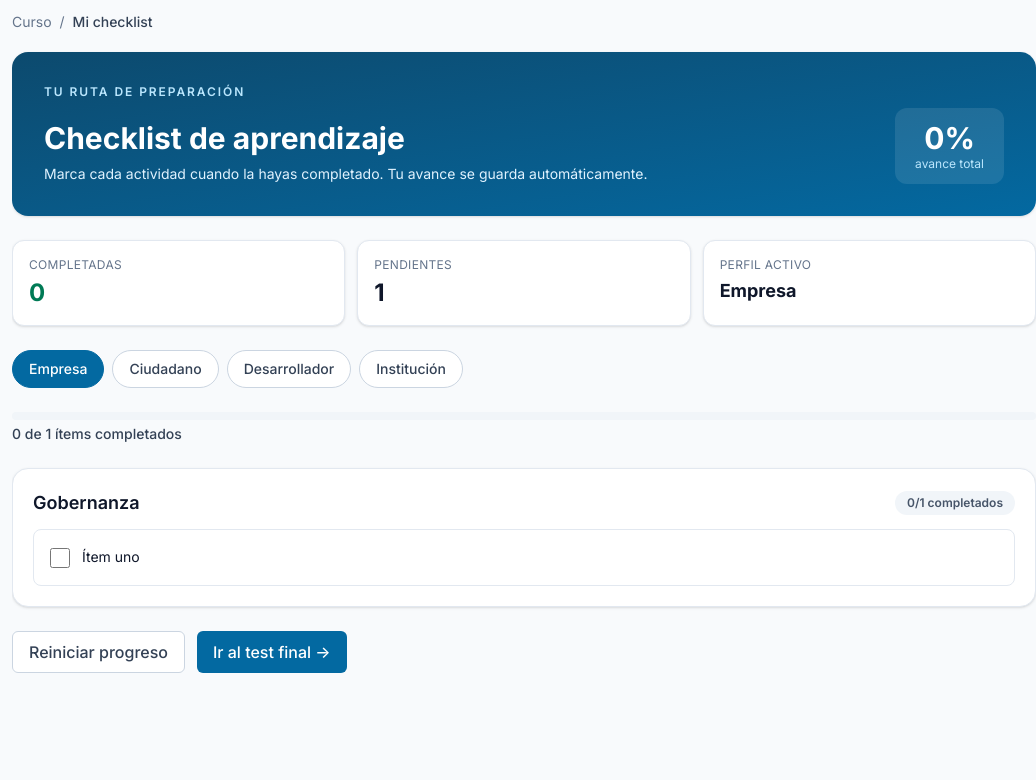
Test: Checklist view › carga checklist del rol empresa y marca ítems con persistencia
Expected: the text "Ítem uno" is shown, [82,546,140,569]
Click the checkbox labelled "Ítem uno" at (60, 558), box [50,548,70,568]
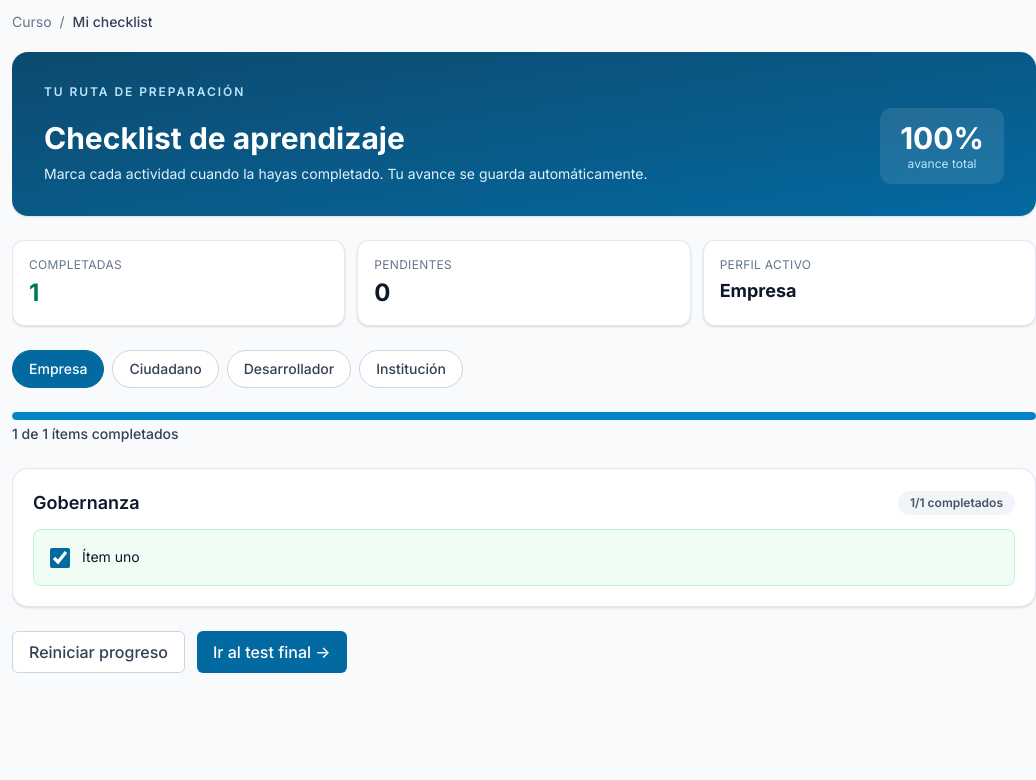
Expected: the checkbox labelled "Ítem uno" is checked, [50,548,70,568]
Expected: the text "1 de 1 ítems completados" is shown, [12,425,179,442]
